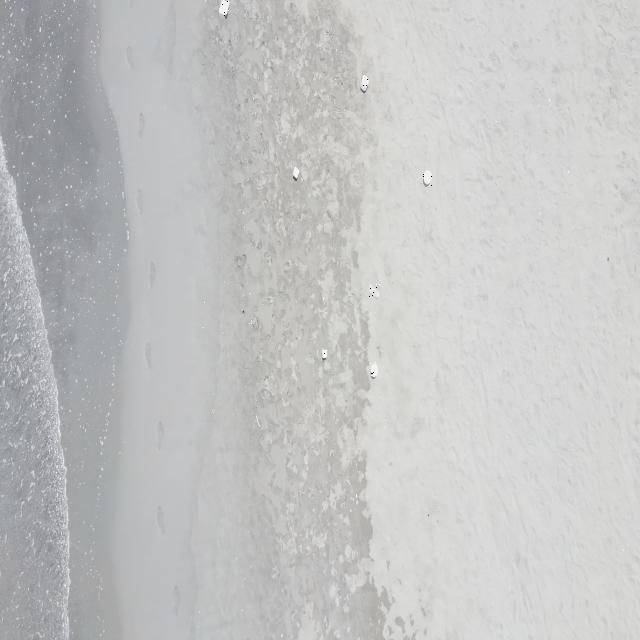take-away-containers: (360, 75, 370, 92), (219, 0, 229, 17), (423, 169, 432, 186), (371, 362, 378, 378), (292, 166, 300, 180), (321, 349, 328, 362)
takeaway-cup: (369, 284, 380, 298)
